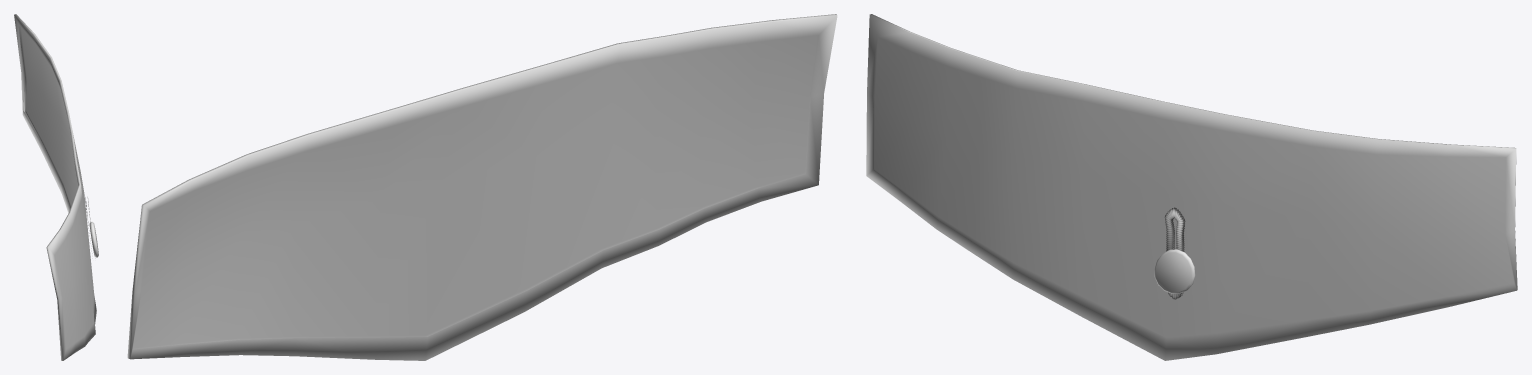
File: watch_pocket_with_flap.glb
The picture shows the model from 3 angles, left to right: view 1: azimuth 30°, elevation 25°; view 2: azimuth 150°, elevation 25°; view 3: azimuth 270°, elevation 25°; orthographic projection. The views are drawn at different scales.
Parts seen in each view (by area): view 1: SM_T_Flap_Pocket; view 2: SM_T_Flap_Pocket; view 3: SM_T_Flap_Pocket.
Part boxes in pixels (x1=…): SM_T_Flap_Pocket: x1=14, y1=14, x2=98, y2=360; SM_T_Flap_Pocket: x1=127, y1=14, x2=837, y2=360; SM_T_Flap_Pocket: x1=866, y1=14, x2=1517, y2=360.
Size of the model in its own units: 0.183 by 0.1464 by 0.3508.
3 materials, 1 textured.
